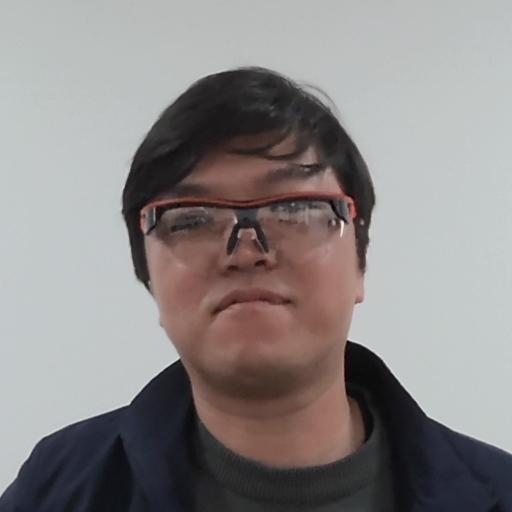glasses: (112, 66, 389, 382)
